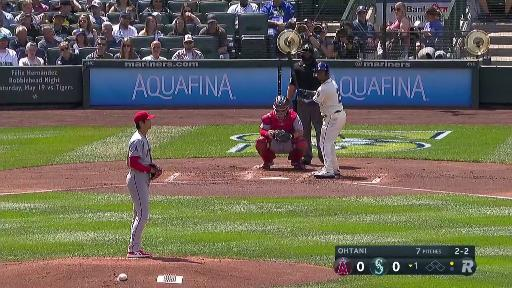pitcher: (124, 111, 164, 259)
